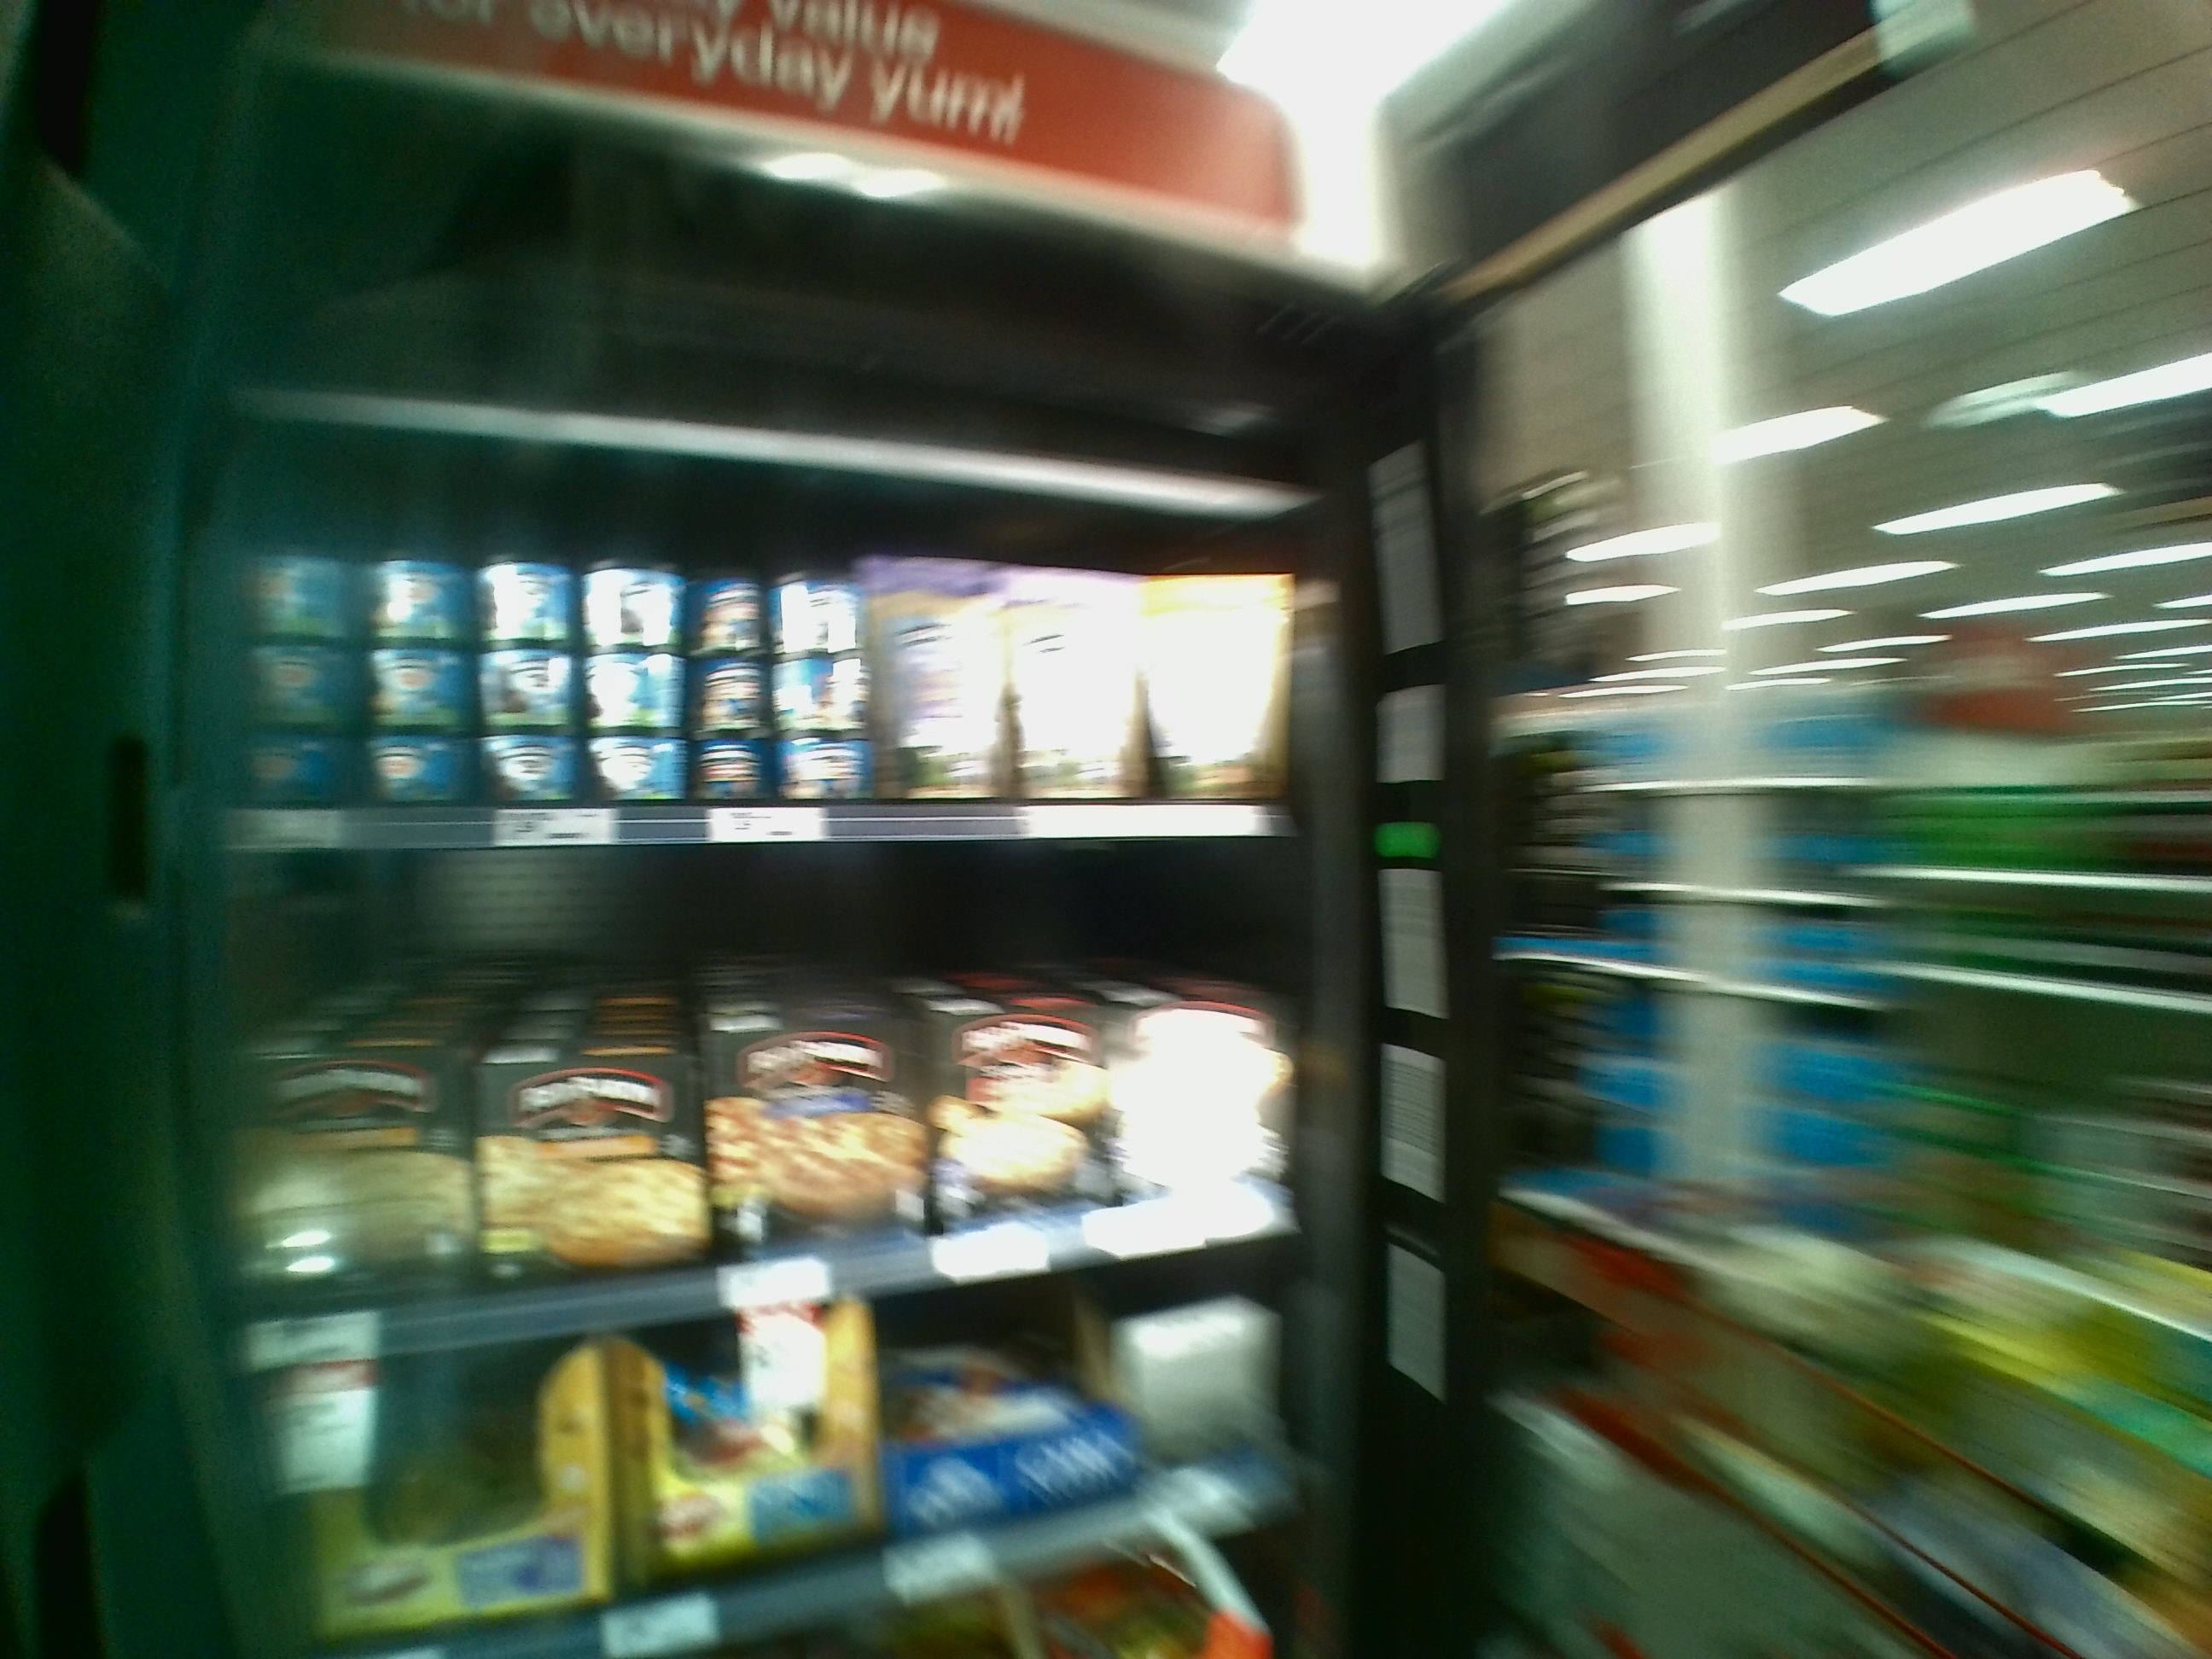shelf: (221, 840, 1287, 1324), (211, 439, 1301, 840)
